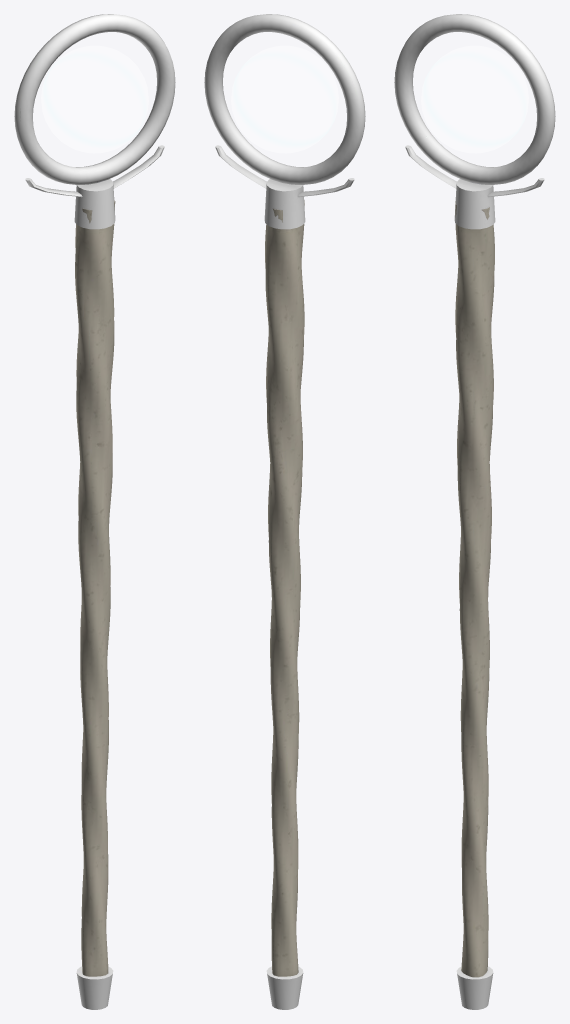
Rendered from wpn_staff.glb.
3 renders of one model, left to right at view 1: azimuth 30°, elevation 25°; view 2: azimuth 150°, elevation 25°; view 3: azimuth 330°, elevation 25°, orthographic.
Parts seen in each view (by area): view 1: staff, staff_orb; view 2: staff, staff_orb; view 3: staff, staff_orb.
Part boxes in pixels (box(x1,y1,x2,y2)): staff: box(14, 14, 175, 1009); staff_orb: box(41, 46, 148, 153); staff: box(204, 14, 365, 1009); staff_orb: box(231, 46, 338, 153); staff: box(394, 14, 555, 1009); staff_orb: box(421, 46, 528, 153).
Bounding box in the file's own units: 0.356 × 2.12 × 0.21.
2 materials, 1 textured.
